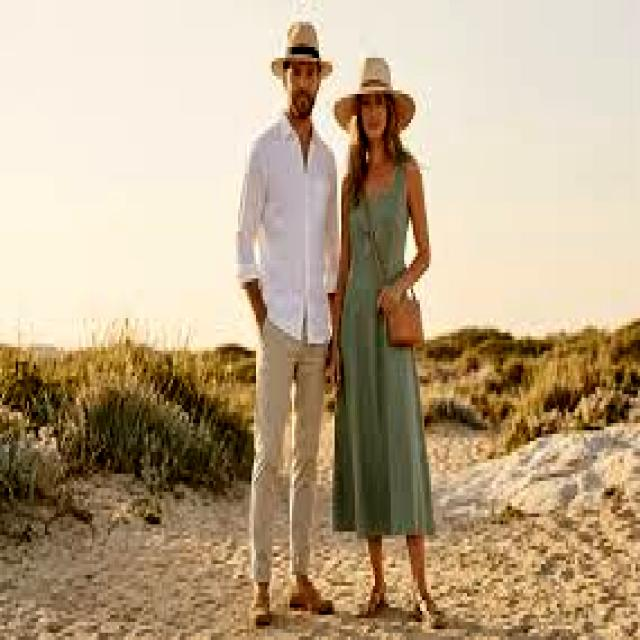dress: (333, 167, 433, 535)
hat: (335, 58, 415, 130), (272, 22, 332, 79)
top-wear: (236, 116, 339, 343)
